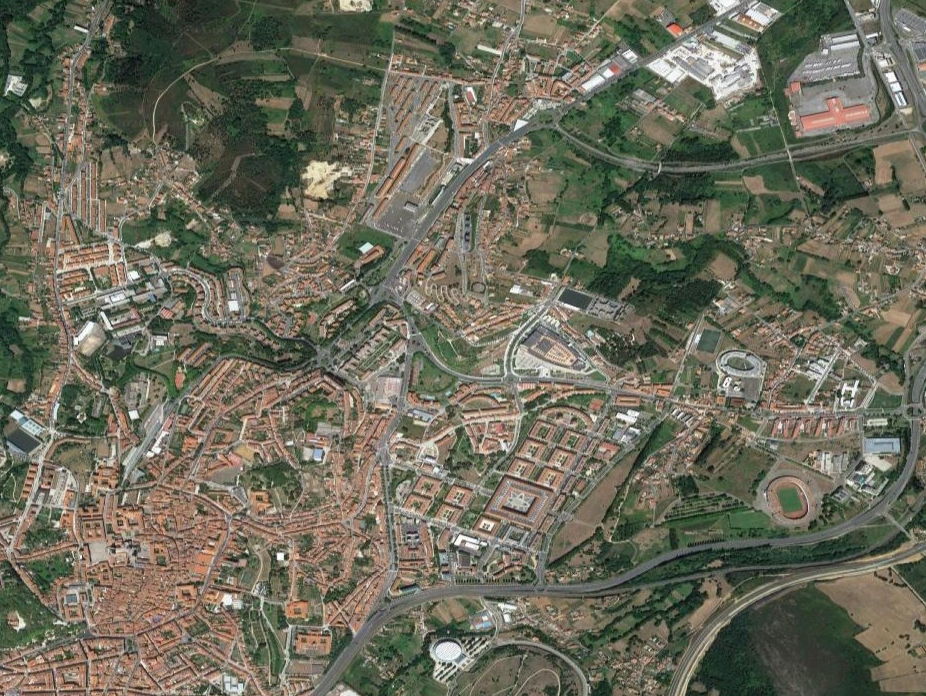industrial: (668, 33, 759, 98)
motorway: (369, 107, 546, 307), (673, 458, 924, 576), (296, 574, 480, 696), (552, 121, 799, 190), (654, 565, 782, 696), (480, 546, 684, 621), (781, 538, 926, 612), (872, 1, 926, 120)
